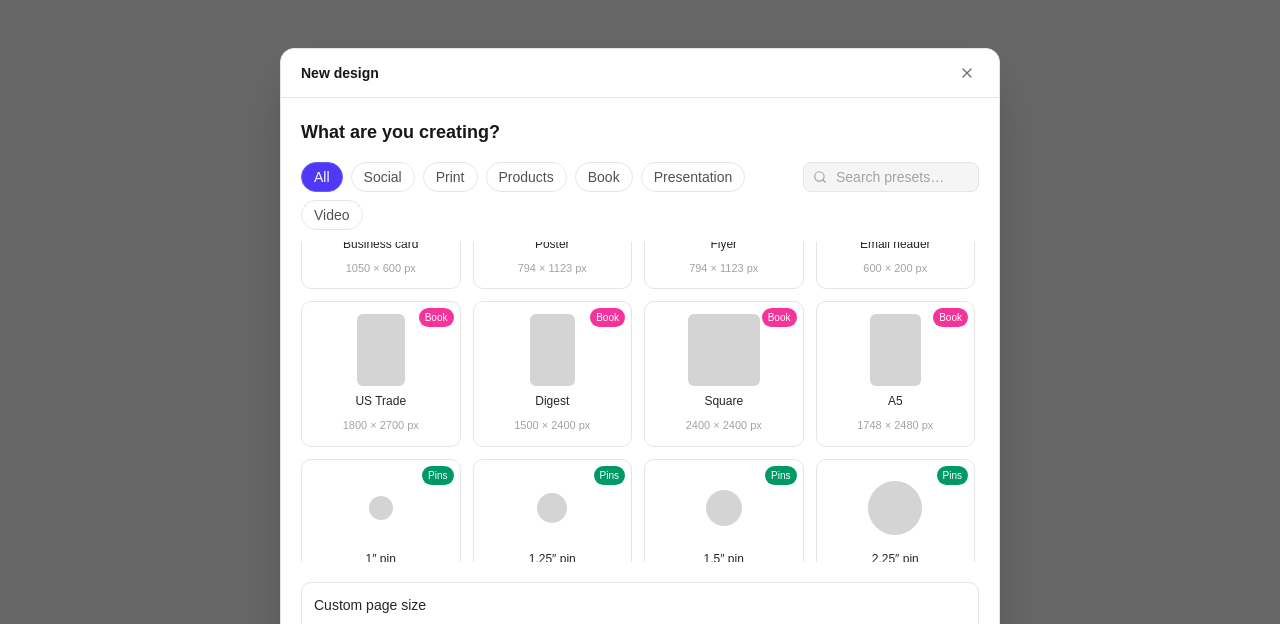
NewDesignModal — print products › does the same for a book preset’s setup panel
The image size is (1280, 624).
(page scrolled)
Click the text "US Trade": (381, 402) [355,394,406,409]
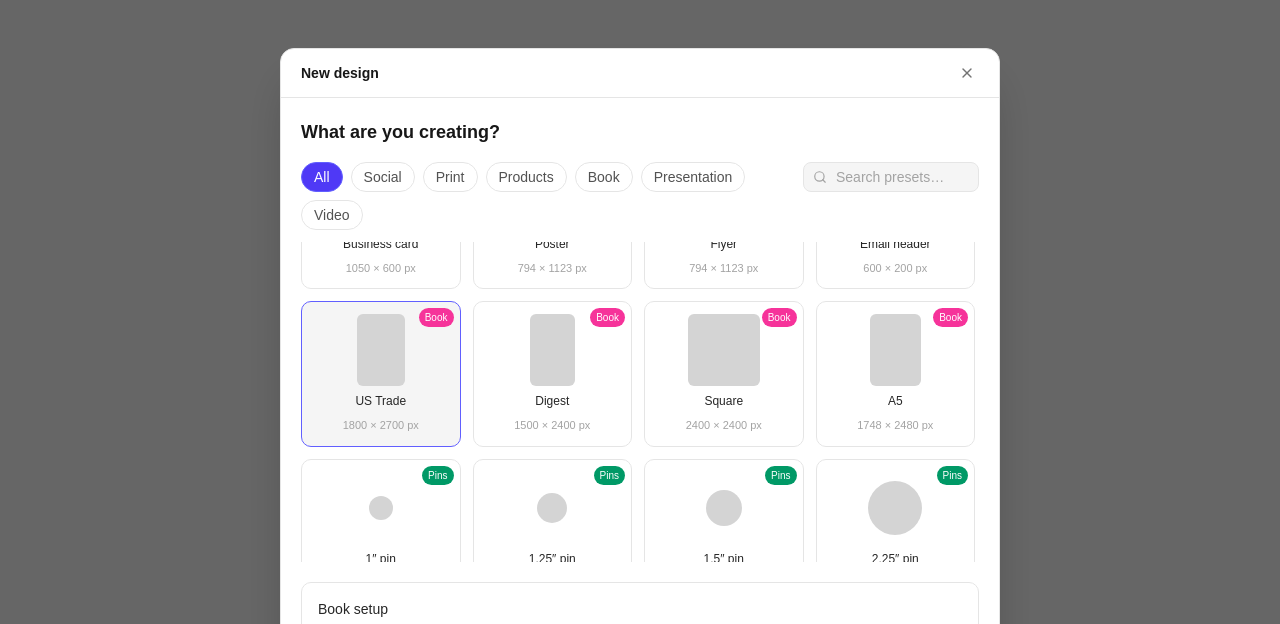
Expected: the text "Book setup" is shown, [318,601,388,617]
Click the button "Print": (450, 177) [423,162,478,192]
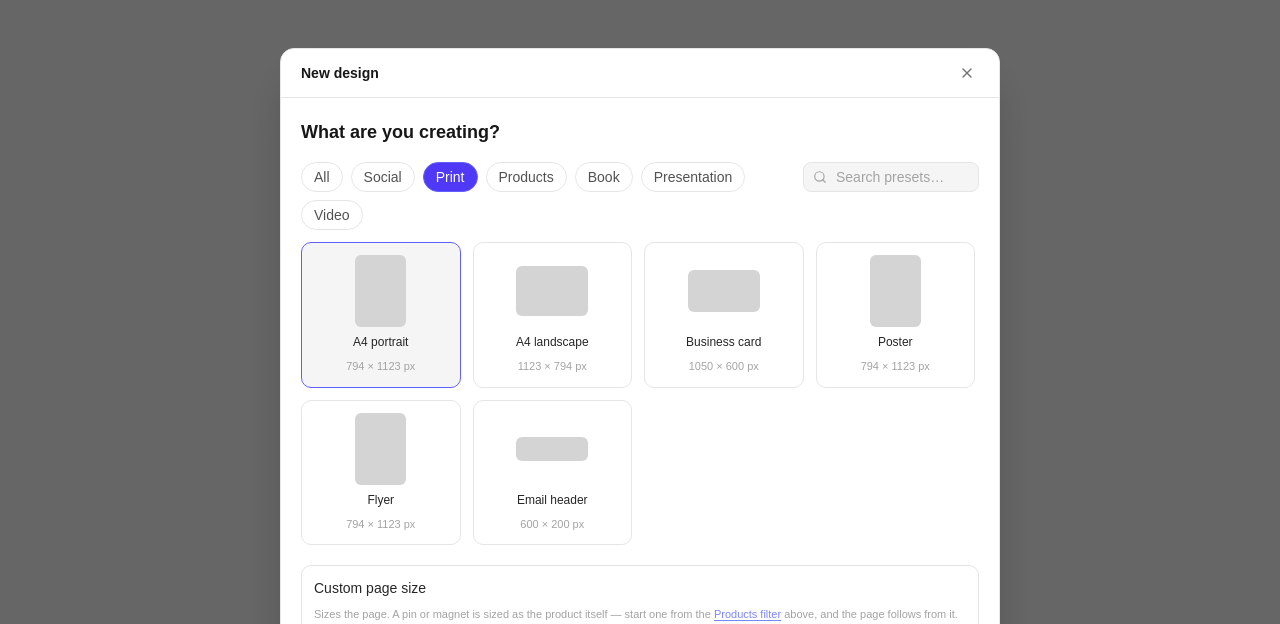
Expected: the text "Book setup" is gone
